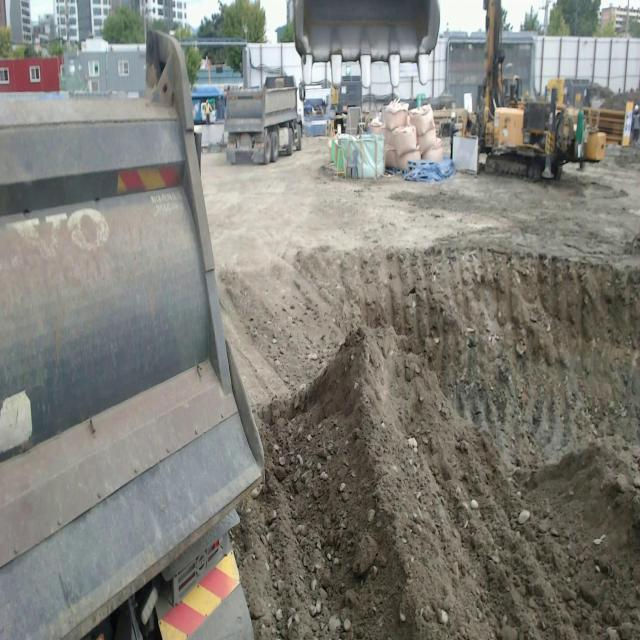white-sand: (202, 137, 640, 639)
